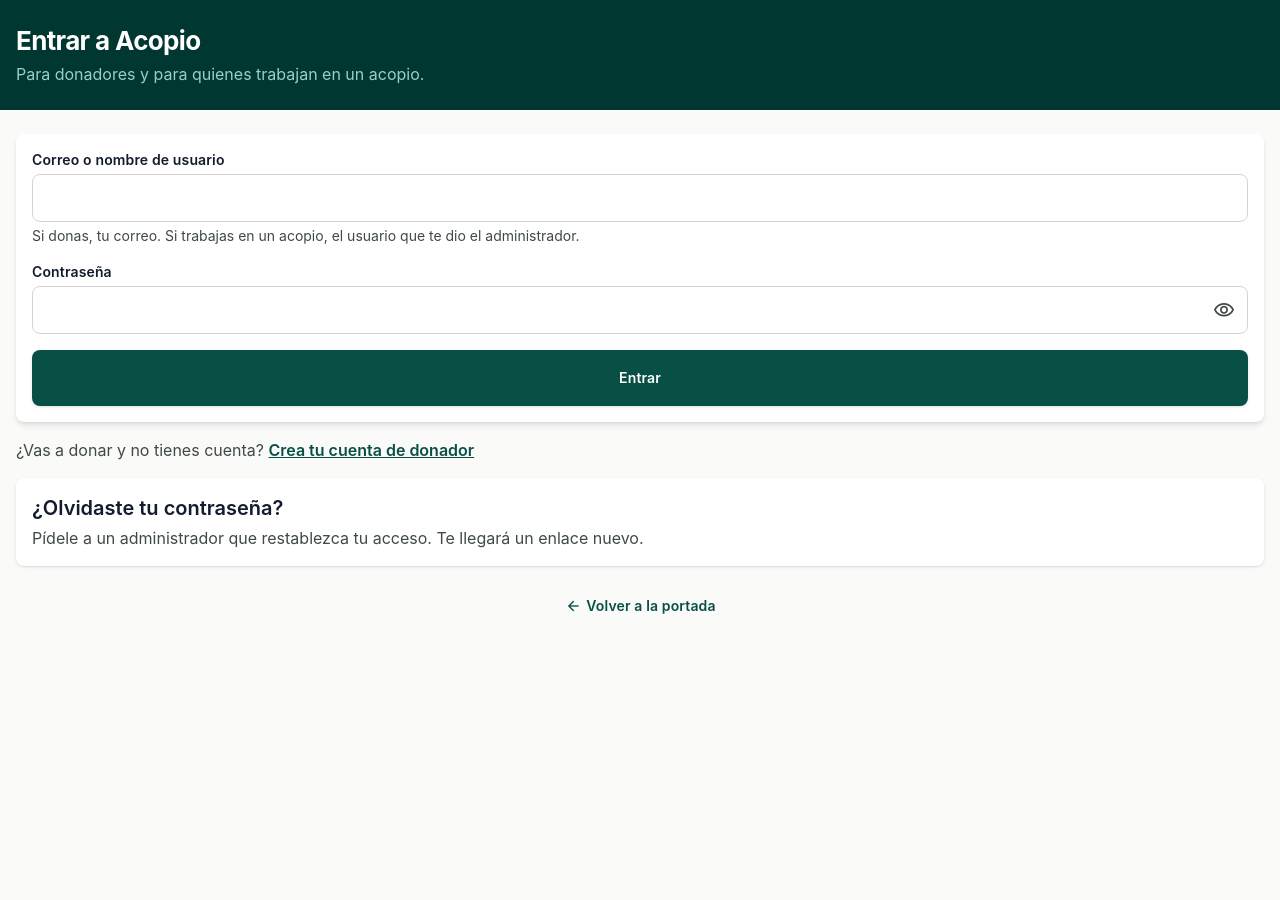
Test: con credenciales malas muestra el mensaje único
The image size is (1280, 900).
Type "x" into the field labelled "Correo o nombre de usuario". click: (640, 198)
box: [32,174,1248,222]
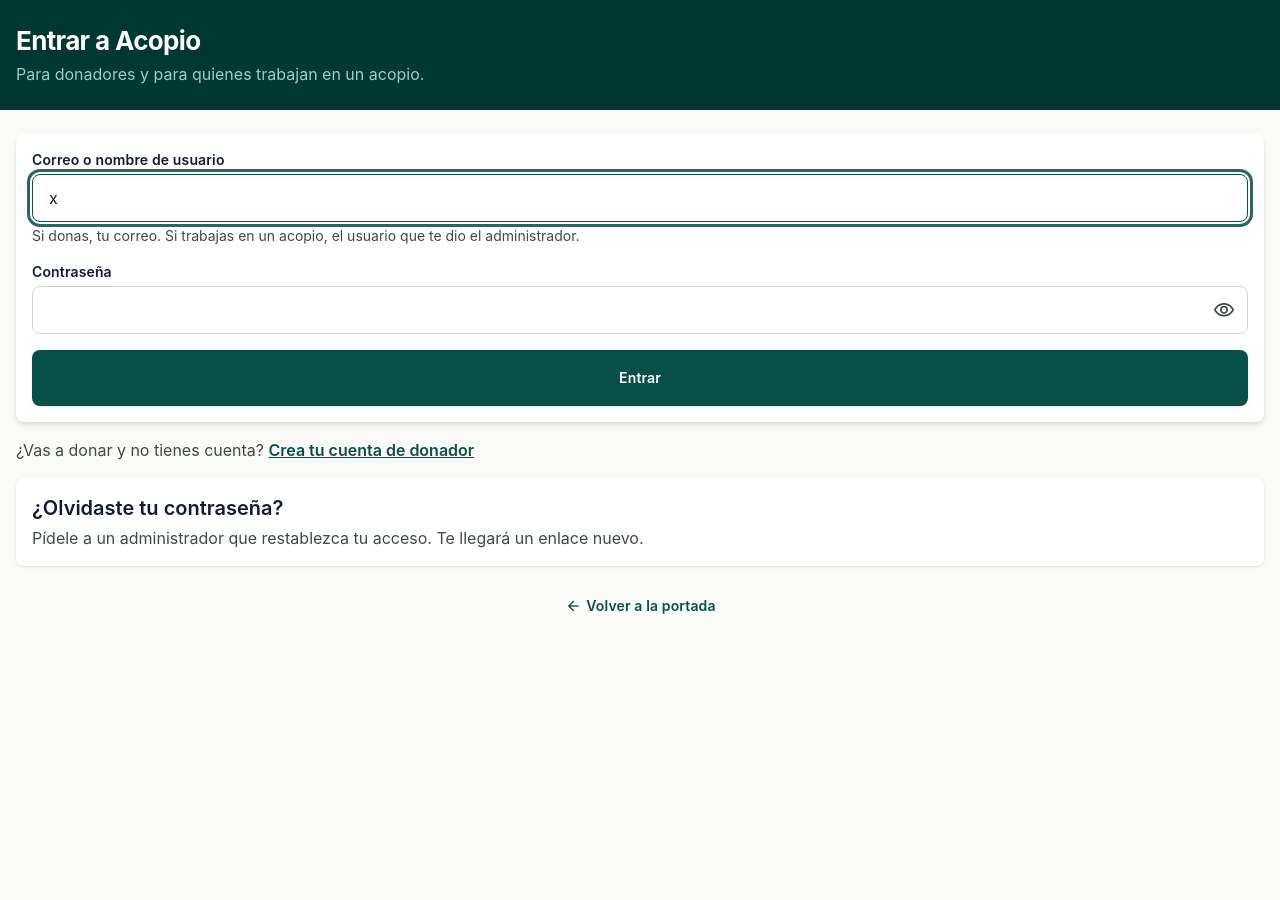
Type "y" into the password field labelled "Contraseña". click: (640, 310)
box: [32,286,1248,334]
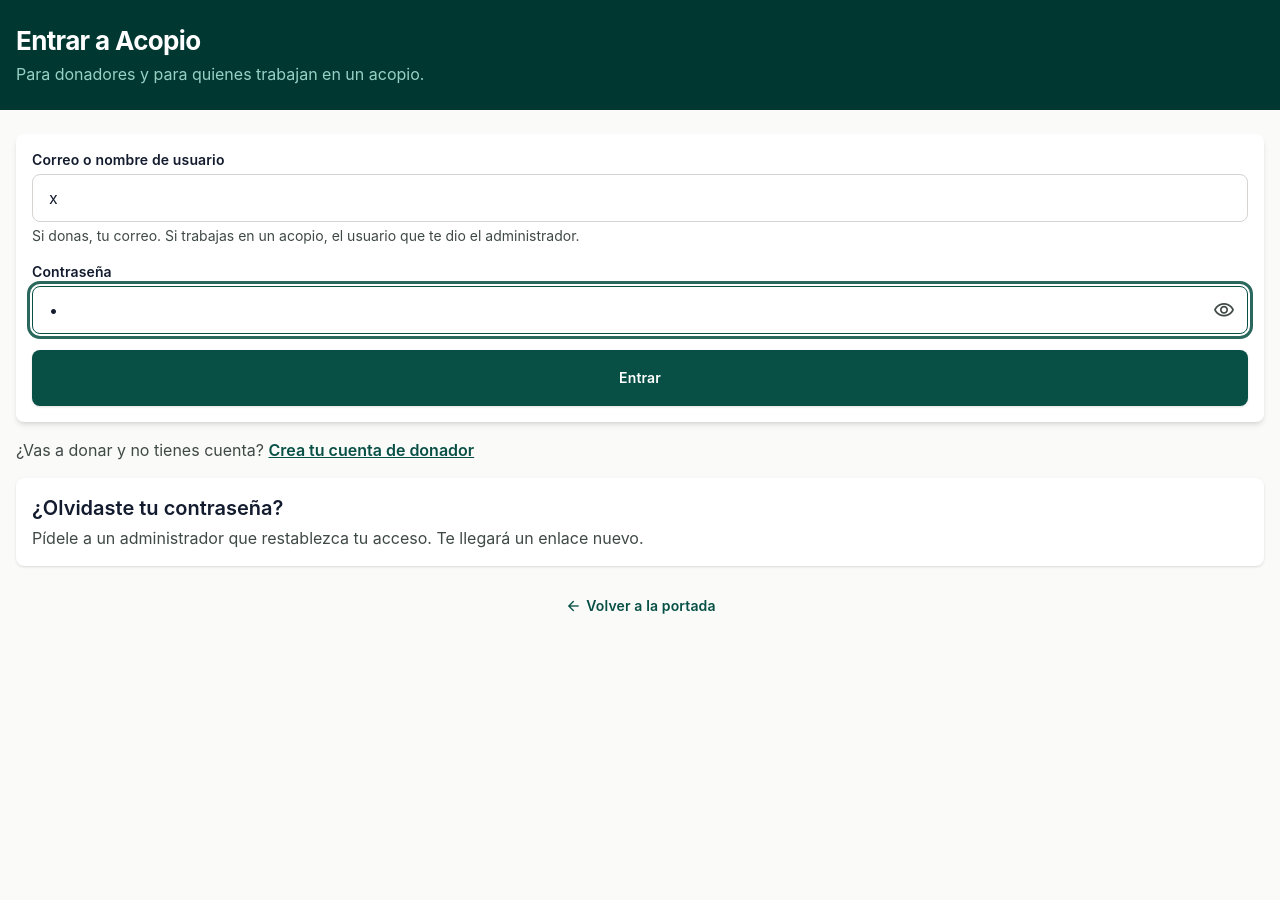
Click the button "Entrar". click: (640, 378)
box: [32,350,1248,406]
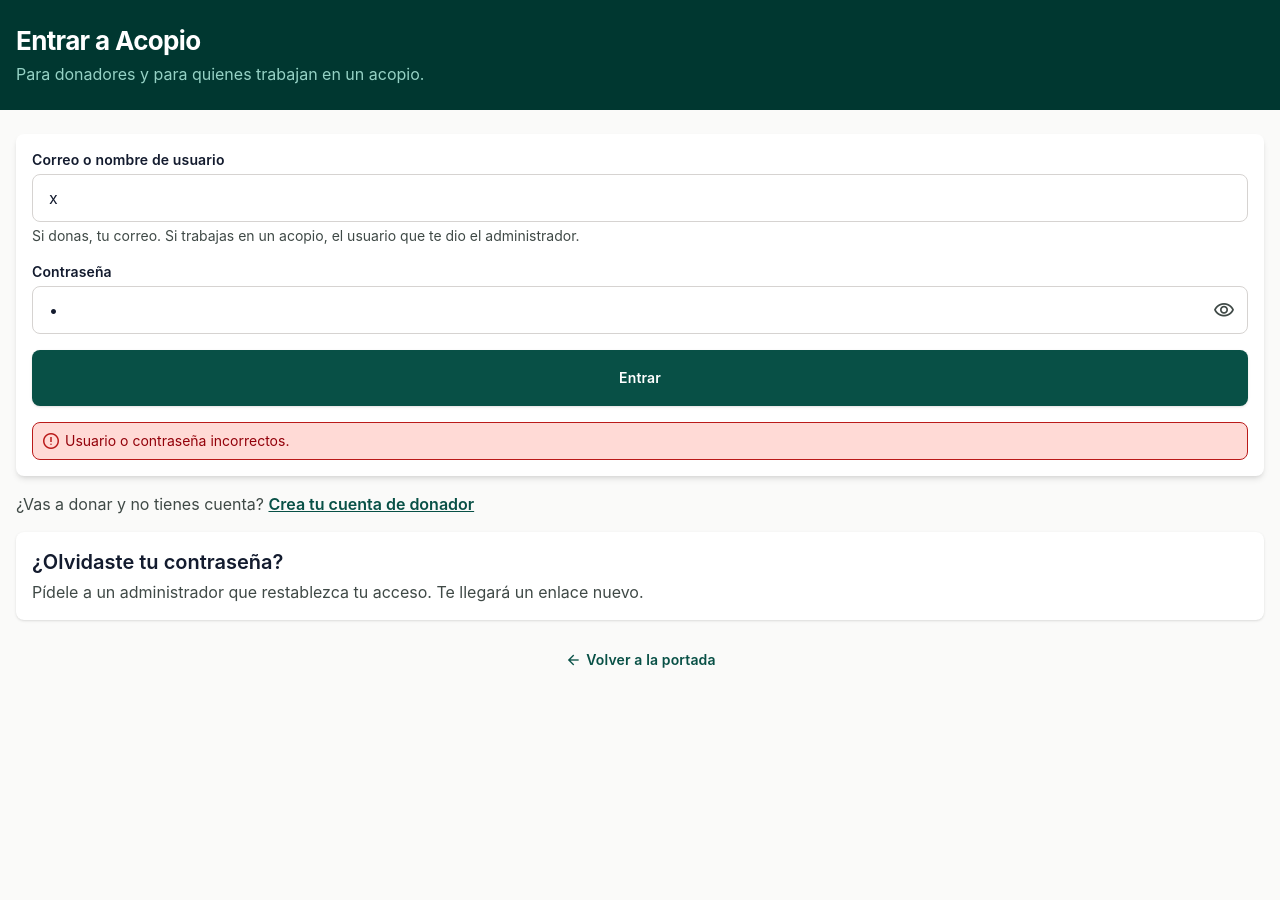
Expected: the message reads "Usuario o contraseña incorrectos.", [65,432,289,449]
